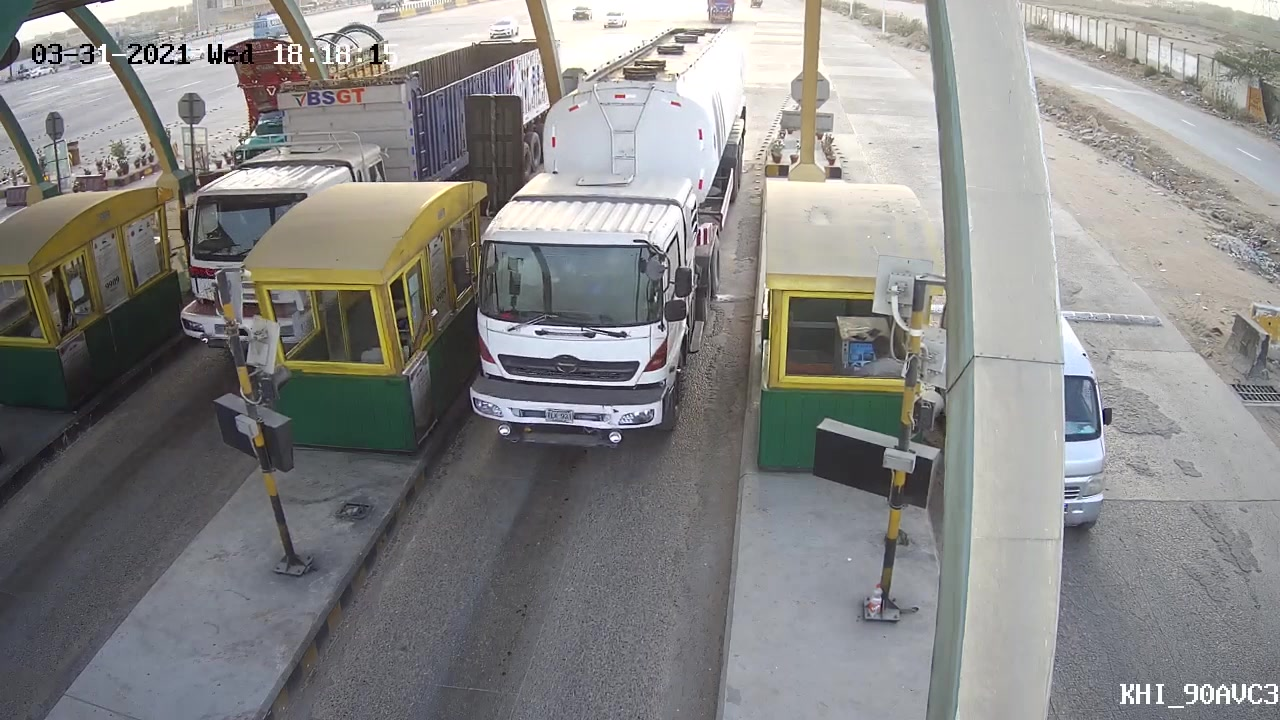F6: (463, 19, 757, 454)
